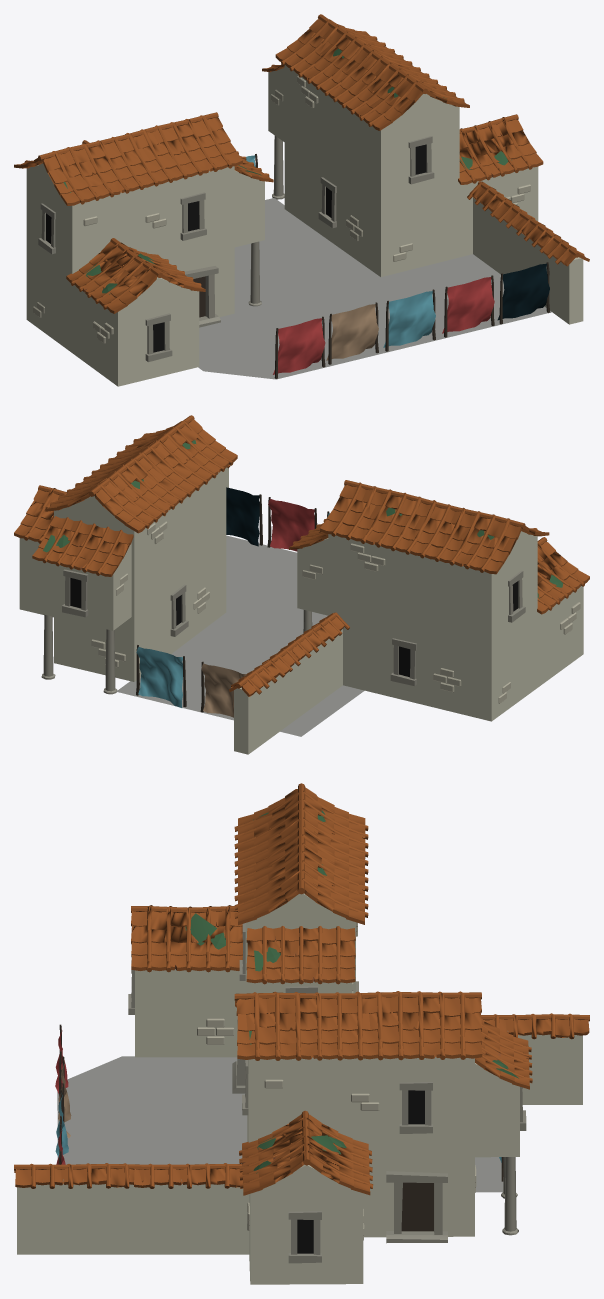
The model's file is RoomR1.fbx.
3 renders of one model, top to bottom at view 1: azimuth 30°, elevation 25°; view 2: azimuth 150°, elevation 25°; view 3: azimuth 270°, elevation 25°, orthographic. The views are drawn at different scales.
Parts seen in each view (by area): view 1: R-R1; view 2: R-R1; view 3: R-R1.
Boxes of the visible parts, x1,y1,x2,y2 form: R-R1: (14,14,589,386); R-R1: (14,415,589,754); R-R1: (14,783,589,1284).
Size of the model in its own units: 2197 by 804 by 1886.
